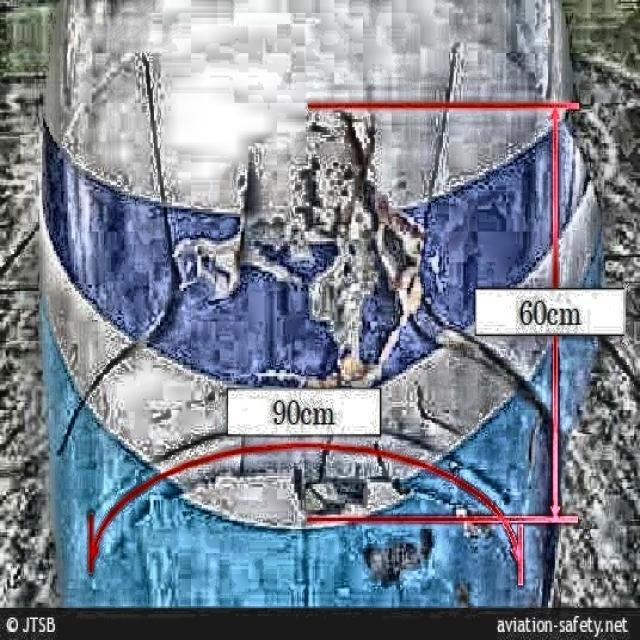crack: (325, 107, 556, 467), (215, 140, 268, 304)
